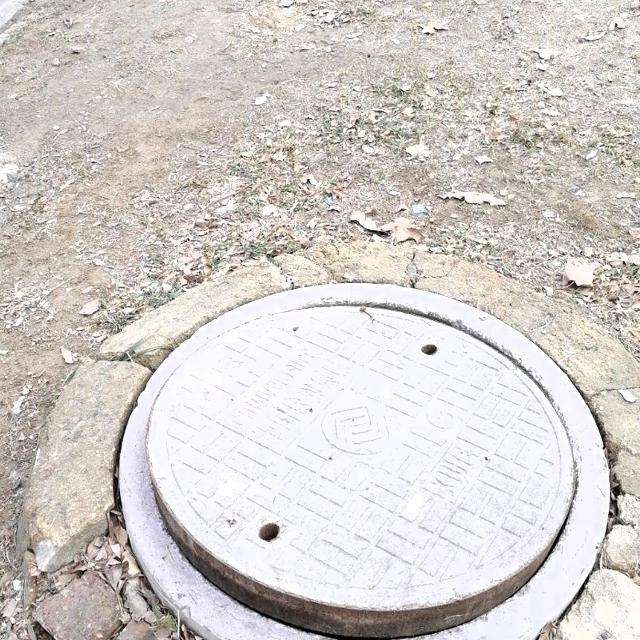uncovered: (113, 279, 613, 640)
